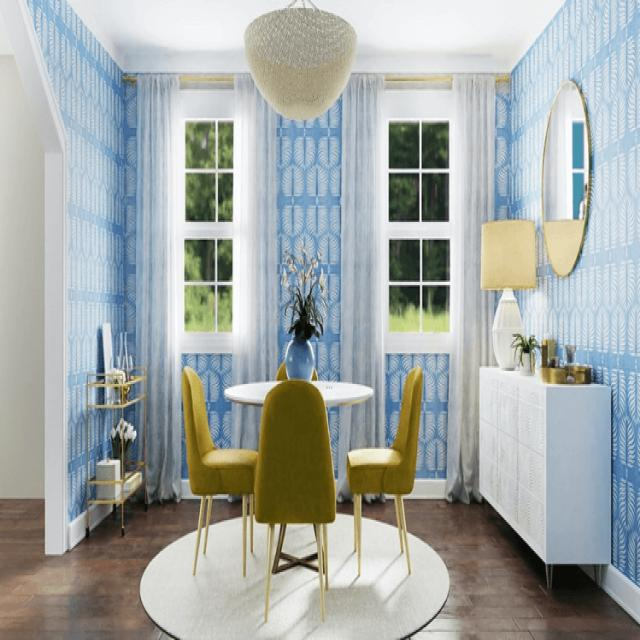modern chair: (252, 382, 335, 626), (345, 362, 423, 579), (178, 359, 250, 574)
modern shelf: (473, 344, 616, 597)
